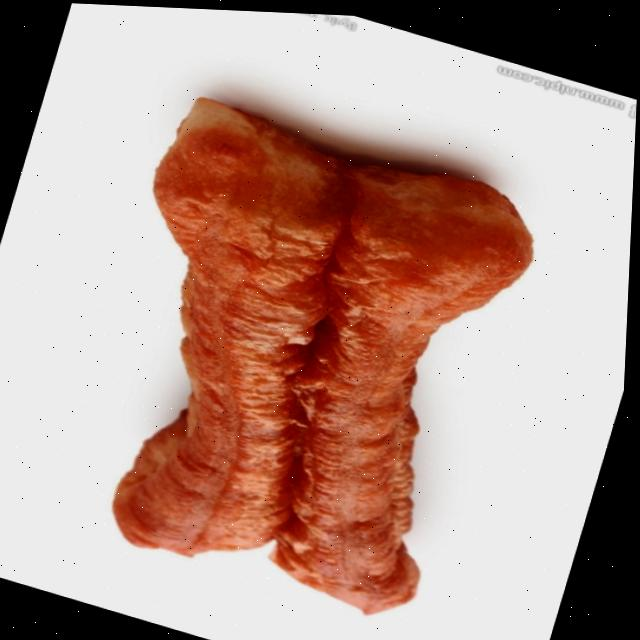炸货点心: (0, 17, 616, 640)
